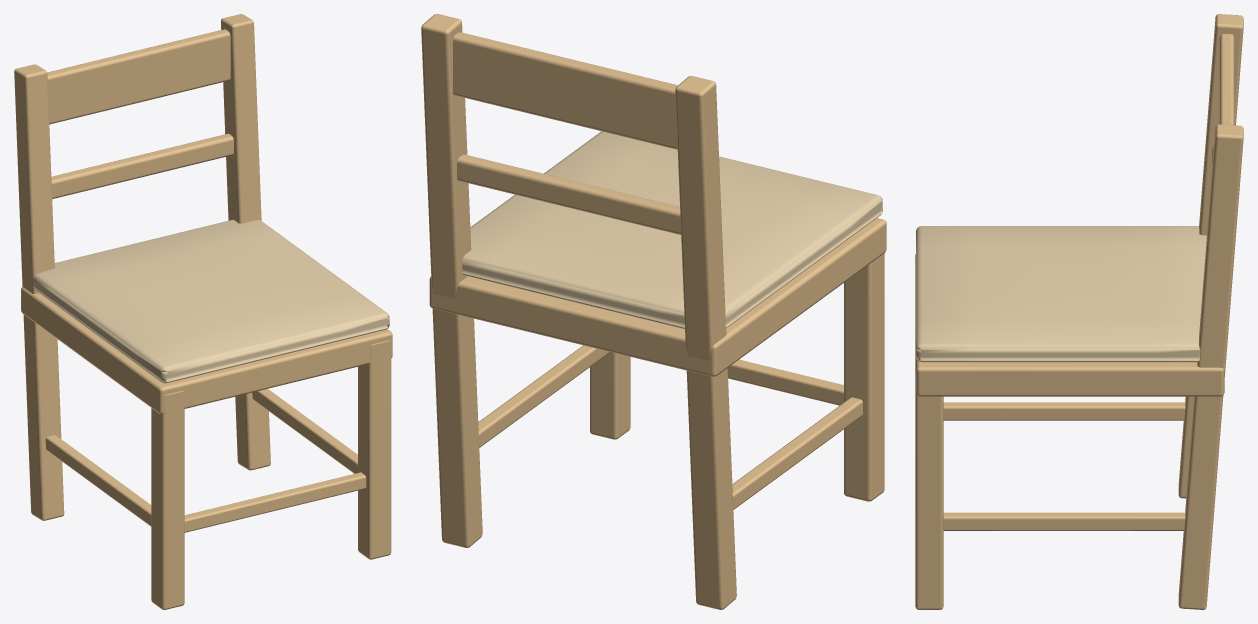
File: chair_dining.glb
3 views of the same model, side by side, from view 1: azimuth 30°, elevation 25°; view 2: azimuth 150°, elevation 25°; view 3: azimuth 270°, elevation 25° (orthographic). The views are drawn at different scales.
Visible parts, largest first — view 1: chair_dining; view 2: chair_dining; view 3: chair_dining.
Part boxes in pixels (x1,y1,x2,y2): chair_dining: [14, 14, 392, 609]; chair_dining: [421, 14, 886, 609]; chair_dining: [915, 14, 1243, 609].
Bounding box in the file's own units: 0.45 × 0.8 × 0.5.
